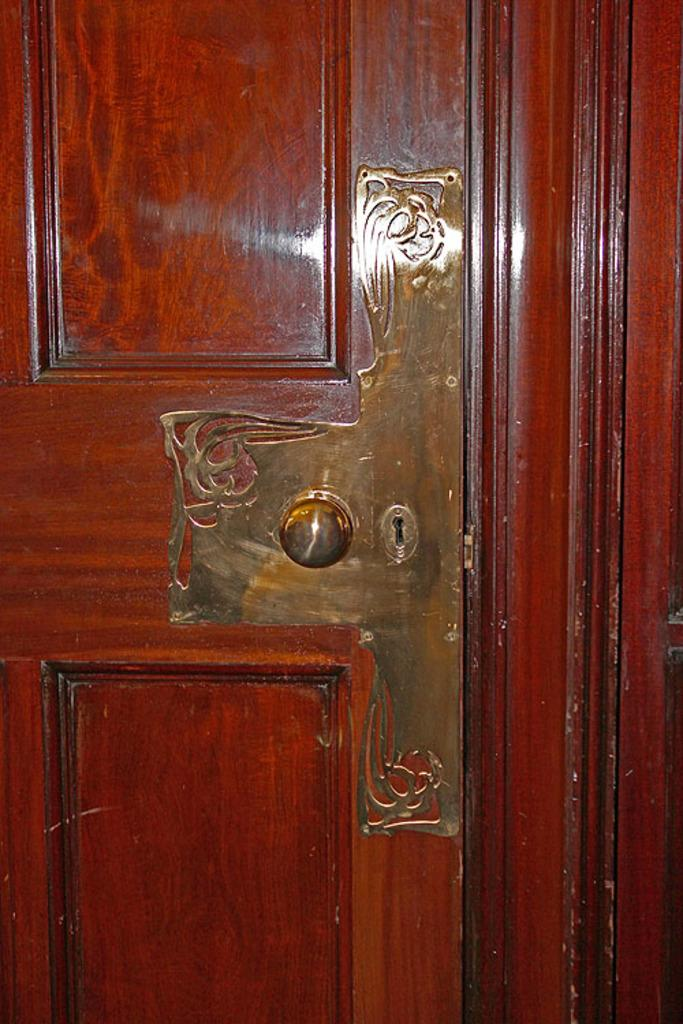handle: (274, 478, 358, 600)
